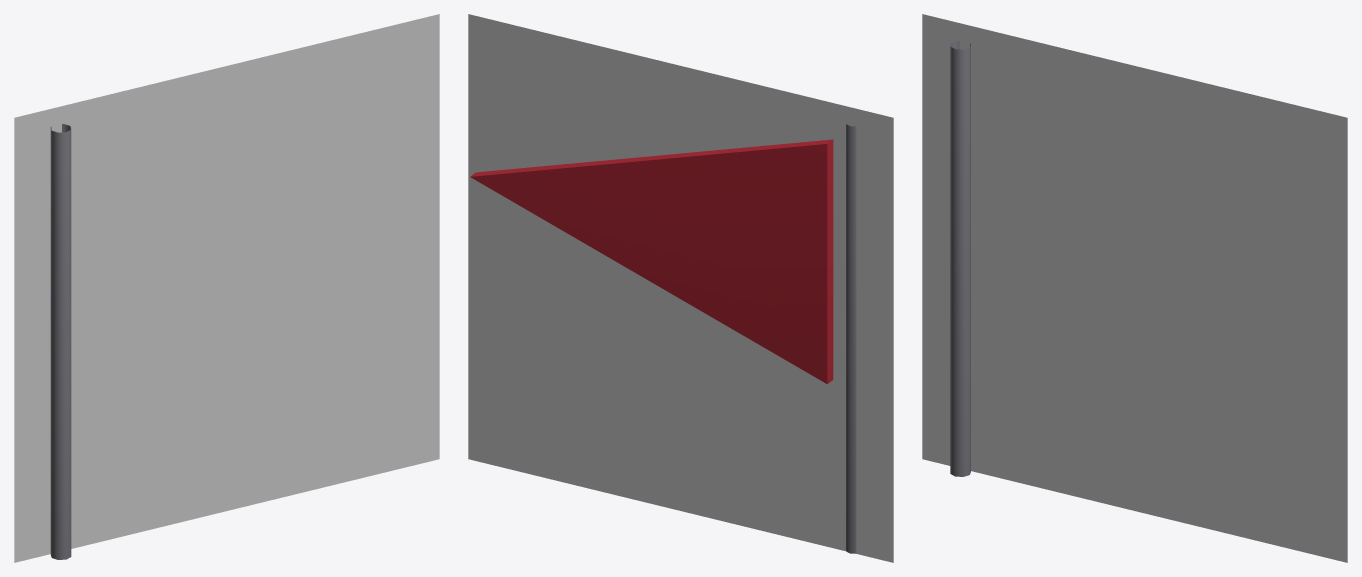
The model's file is furn_boston_sign.glb.
The picture shows the model from 3 angles, left to right: view 1: azimuth 30°, elevation 25°; view 2: azimuth 150°, elevation 25°; view 3: azimuth 330°, elevation 25°; orthographic projection.
Visible parts, largest first — view 1: furn_boston_sign_pic, furn_boston_sign_gloss; view 2: furn_boston_sign_pic, furn_boston_sign_main, furn_boston_sign_gloss; view 3: furn_boston_sign_pic, furn_boston_sign_gloss.
Part boxes in pixels (x1,y1,x2,y2): furn_boston_sign_pic: [14, 14, 439, 562]; furn_boston_sign_gloss: [50, 124, 71, 559]; furn_boston_sign_pic: [468, 14, 893, 562]; furn_boston_sign_main: [470, 139, 833, 383]; furn_boston_sign_gloss: [846, 124, 856, 553]; furn_boston_sign_pic: [922, 14, 1347, 562]; furn_boston_sign_gloss: [950, 41, 970, 476].
Size of the model in its own units: 1 by 1 by 0.067.
